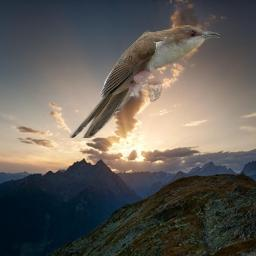Cuckoo: (70, 25, 220, 138)
